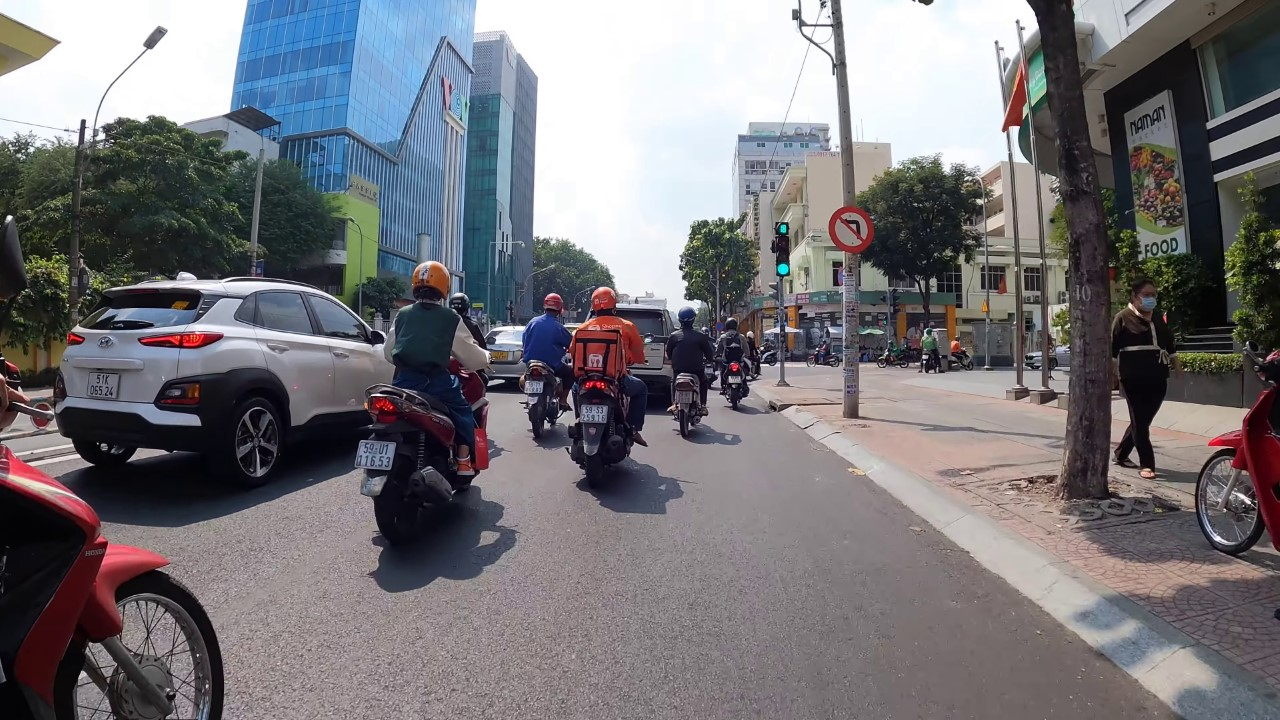cam_re_trai: (827, 202, 876, 255)
